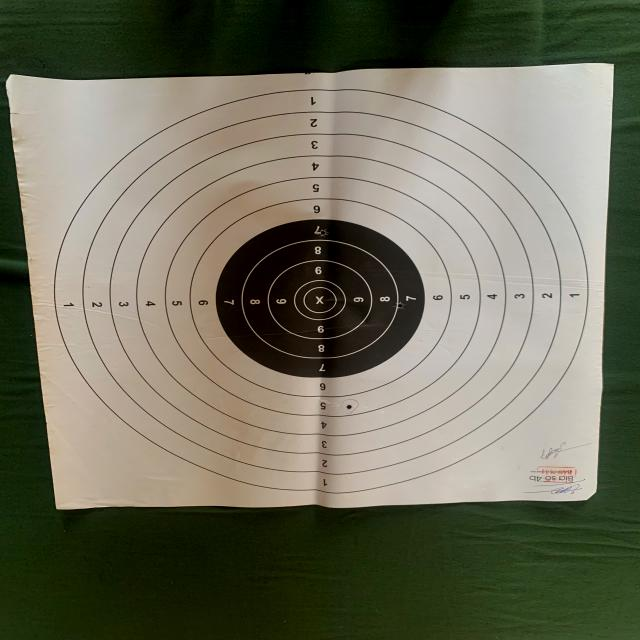bullet: (320, 229, 327, 236), (397, 302, 403, 308), (348, 404, 352, 408)
target: (20, 68, 612, 509)
